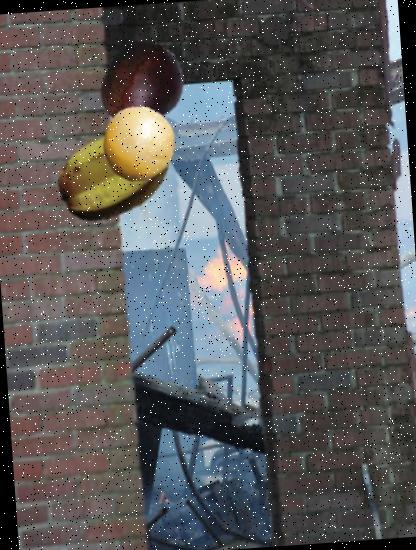Carambula: (51, 110, 180, 239)
Chestnut: (94, 38, 188, 133)
Grapefruit: (97, 103, 179, 185)
